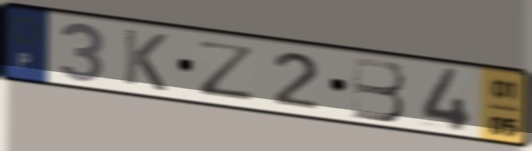2: (270, 50, 322, 112)
3: (57, 19, 108, 84)
4: (418, 66, 475, 134)
B: (350, 55, 408, 124)
K: (120, 26, 170, 95)
Z: (194, 38, 260, 103)
